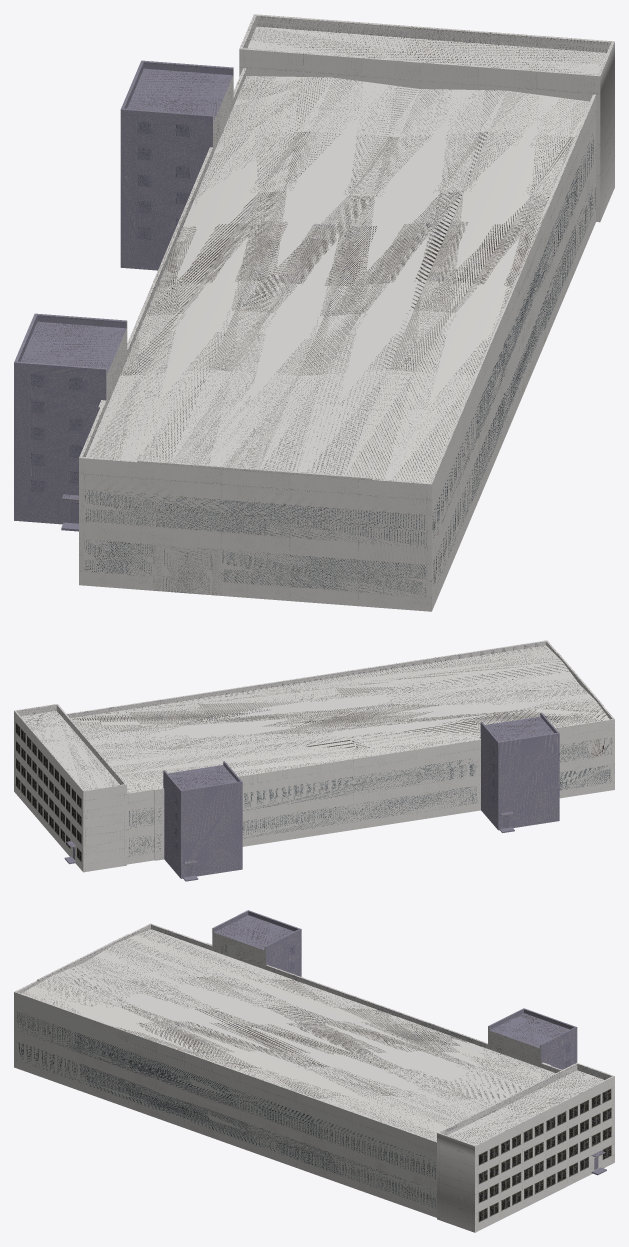
Rendered from Sklad1.fbx.
3 renders of one model, top to bottom at view 1: azimuth 30°, elevation 25°; view 2: azimuth 150°, elevation 25°; view 3: azimuth 270°, elevation 25°, orthographic. The views are drawn at different scales.
Visible parts, largest first — view 1: Group1; view 2: Group1; view 3: Group1.
Part boxes in pixels (x1,y1,x2,y2): Group1: (14, 14, 614, 611); Group1: (14, 640, 614, 878); Group1: (14, 910, 614, 1232).
Bounding box in the file's own units: 89.2 × 16.65 × 96.78.
